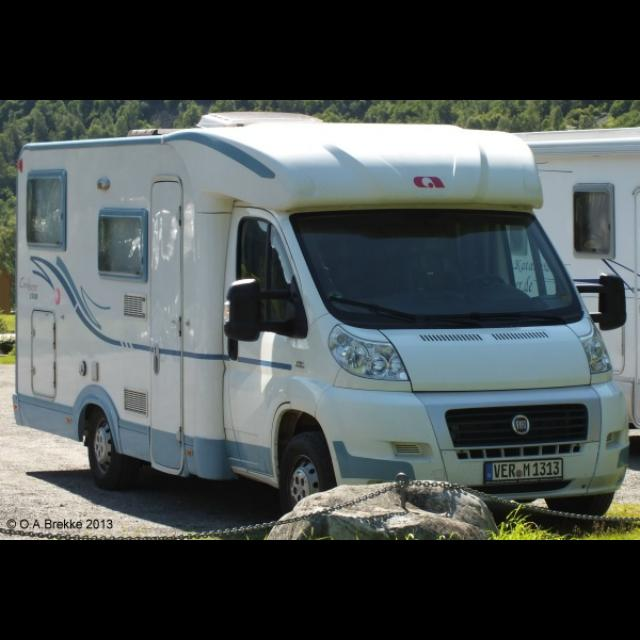d_license_plate: (484, 459, 560, 481)
